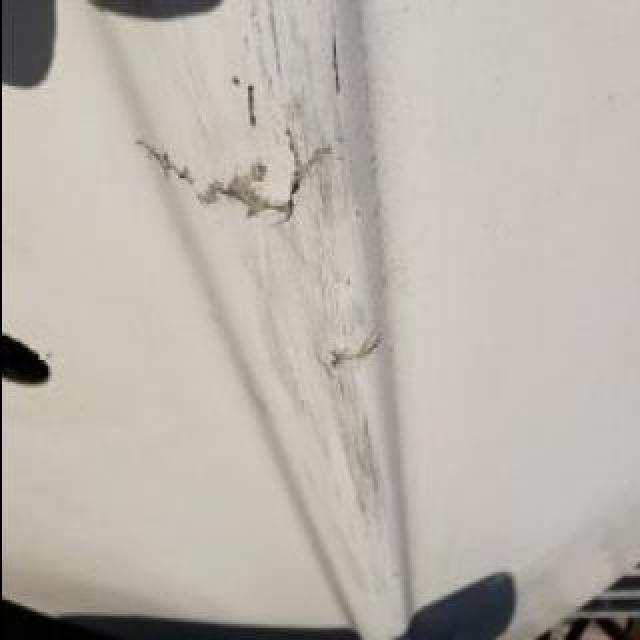crack: (195, 125, 331, 229), (128, 134, 200, 190), (242, 78, 258, 130), (327, 32, 341, 88)
